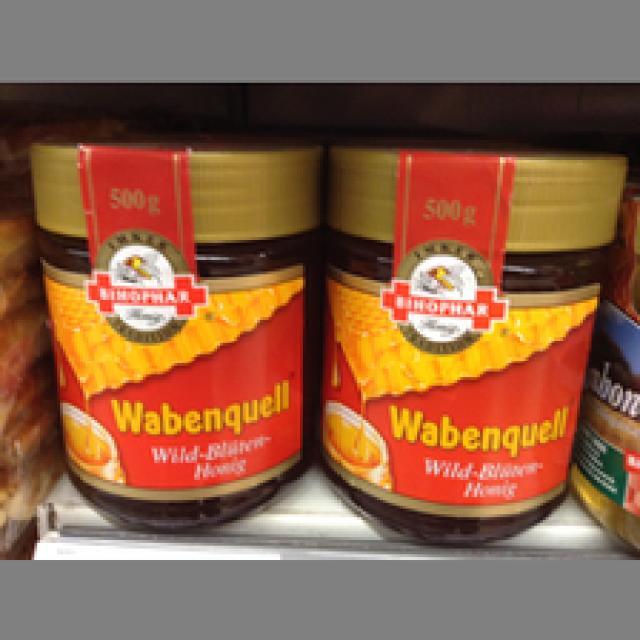groceries: (26, 129, 326, 537), (334, 137, 629, 540)
